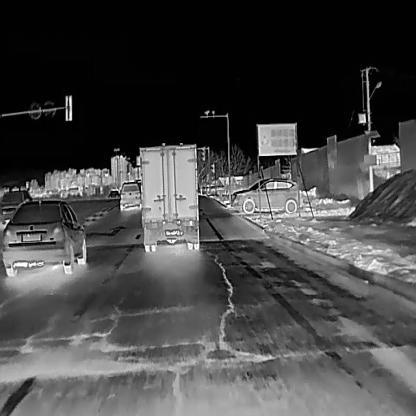car: (137, 143, 200, 252), (1, 199, 86, 275), (229, 177, 301, 215), (0, 188, 32, 224), (118, 180, 142, 211)
